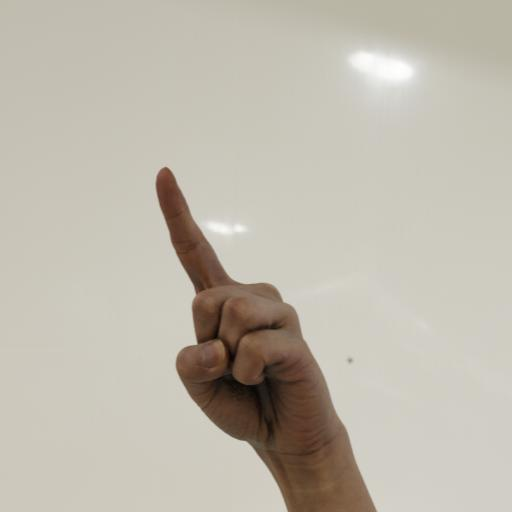Z: (142, 160, 354, 471)
